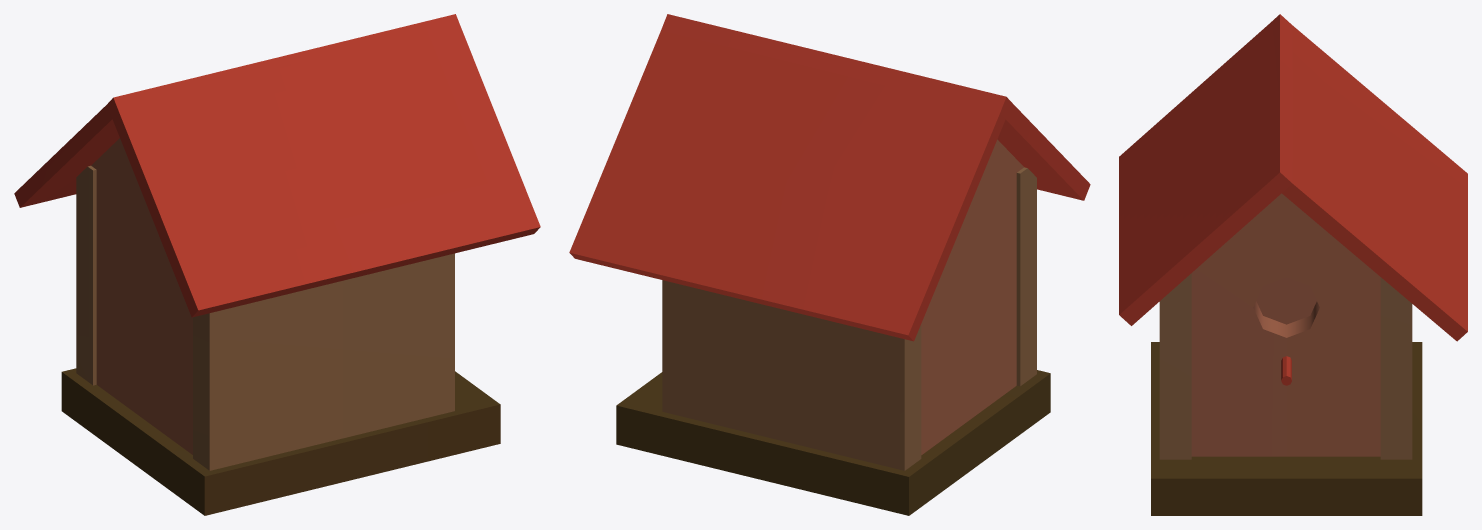
Rendered from CasitaRoja.FBX.
3 renders of one model, left to right at view 1: azimuth 30°, elevation 25°; view 2: azimuth 150°, elevation 25°; view 3: azimuth 270°, elevation 25°, orthographic. The views are drawn at different scales.
Parts seen in each view (by area): view 1: CasitaRoja; view 2: CasitaRoja; view 3: CasitaRoja.
Part boxes in pixels (left/top/right/bottom): CasitaRoja: left=14, top=14, right=540, bottom=515; CasitaRoja: left=569, top=14, right=1090, bottom=515; CasitaRoja: left=1119, top=14, right=1467, bottom=515.
Size of the model in its own units: 48.93 by 51.1 by 45.57.
